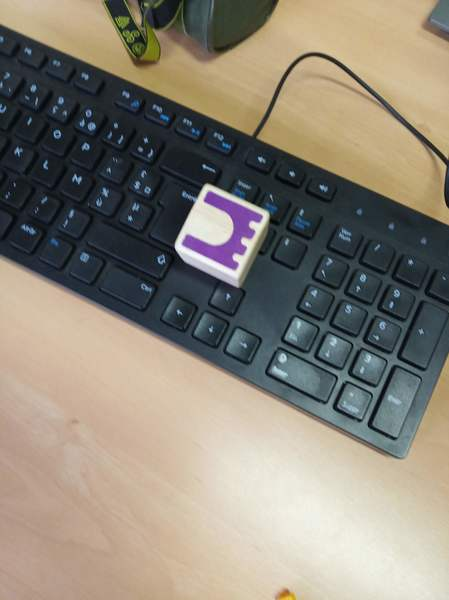violet: (179, 184, 267, 281)
